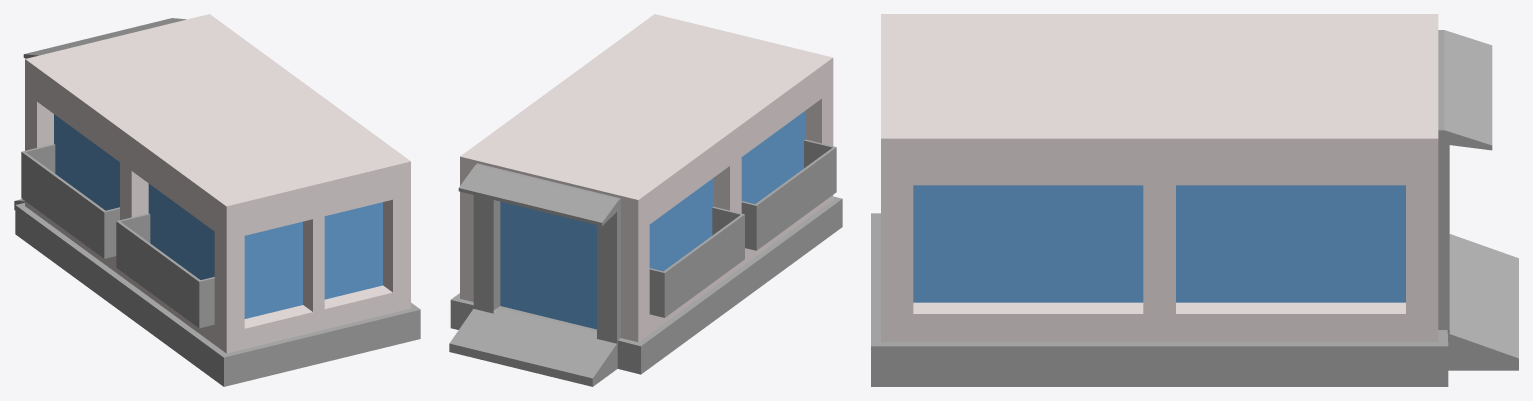
The model's file is building_1x2_7_g.glb.
The picture shows the model from 3 angles, left to right: view 1: azimuth 30°, elevation 25°; view 2: azimuth 150°, elevation 25°; view 3: azimuth 270°, elevation 25°; orthographic projection. The views are drawn at different scales.
Visible parts, largest first — view 1: Cube; view 2: Cube; view 3: Cube.
Boxes of the visible parts, x1=… form: Cube: x1=14, y1=14, x2=420, y2=386; Cube: x1=449, y1=14, x2=842, y2=386; Cube: x1=871, y1=14, x2=1518, y2=386.
Size of the model in its own units: 1.96 by 1.6 by 3.85.
